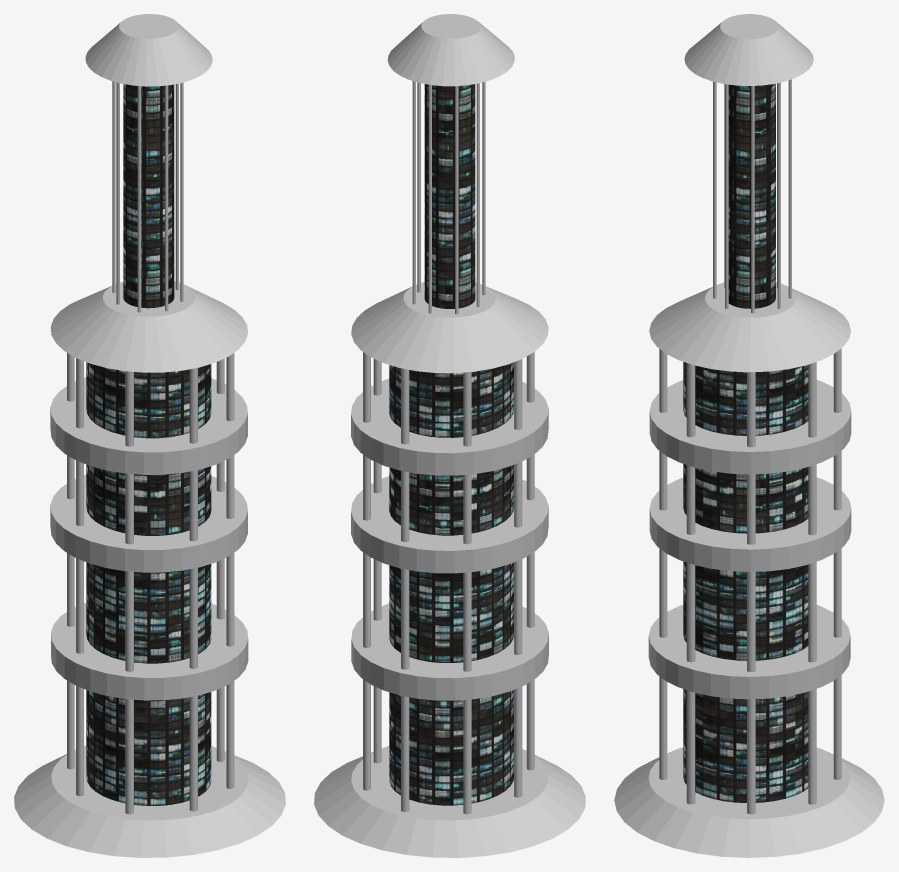
The model's file is Haus2.dae.
The picture shows the model from 3 angles, left to right: view 1: azimuth 30°, elevation 25°; view 2: azimuth 150°, elevation 25°; view 3: azimuth 270°, elevation 25°; orthographic projection.
Visible parts, largest first — view 1: Office, Dach30, Dach, cylinder31, Dach29, Dach28, Dach27, Dach40, cylinder26, cylinder19, cylinder24, cylinder22 (+8 smaller); view 2: Office, Dach30, Dach, cylinder31, Dach28, Dach27, Dach29, Dach40, cylinder20, cylinder23, cylinder22, cylinder25 (+8 smaller); view 3: Office, Dach30, Dach, cylinder31, Dach27, Dach29, Dach28, Dach40, cylinder24, cylinder21, cylinder25, cylinder20 (+6 smaller).
Boxes of the visible parts, left/top/right/bottom form: Office: left=86, top=362, right=211, bottom=805; Dach30: left=14, top=745, right=285, bottom=857; Dach: left=50, top=281, right=247, bottom=372; cylinder31: left=123, top=84, right=174, bottom=308; Dach29: left=51, top=603, right=248, bottom=700; Dach28: left=50, top=475, right=247, bottom=572; Dach27: left=50, top=377, right=247, bottom=474; Dach40: left=85, top=14, right=212, bottom=86; cylinder26: left=125, top=371, right=133, bottom=814; cylinder19: left=189, top=368, right=197, bottom=811; cylinder24: left=226, top=353, right=234, bottom=788; cylinder22: left=76, top=358, right=83, bottom=796; Office: left=389, top=362, right=513, bottom=805; Dach30: left=314, top=746, right=585, bottom=857; Dach: left=351, top=282, right=548, bottom=373; cylinder31: left=424, top=84, right=475, bottom=308; Dach28: left=351, top=476, right=548, bottom=573; Dach27: left=351, top=378, right=548, bottom=475; Dach29: left=351, top=603, right=548, bottom=700; Dach40: left=387, top=14, right=514, bottom=86; cylinder20: left=401, top=368, right=409, bottom=811; cylinder23: left=463, top=372, right=471, bottom=814; cylinder22: left=514, top=359, right=522, bottom=797; cylinder25: left=363, top=352, right=370, bottom=790; Office: left=683, top=362, right=808, bottom=802; Dach30: left=614, top=747, right=884, bottom=857; Dach: left=649, top=282, right=850, bottom=372; cylinder31: left=728, top=83, right=775, bottom=308; Dach27: left=649, top=380, right=851, bottom=474; Dach29: left=648, top=605, right=850, bottom=699; Dach28: left=649, top=477, right=851, bottom=571; Dach40: left=684, top=14, right=813, bottom=85; cylinder24: left=686, top=363, right=695, bottom=804; cylinder21: left=747, top=372, right=755, bottom=814; cylinder25: left=808, top=362, right=816, bottom=804; cylinder20: left=833, top=348, right=841, bottom=779.
Size of the model in its own units: 1406 by 4402 by 1395.
